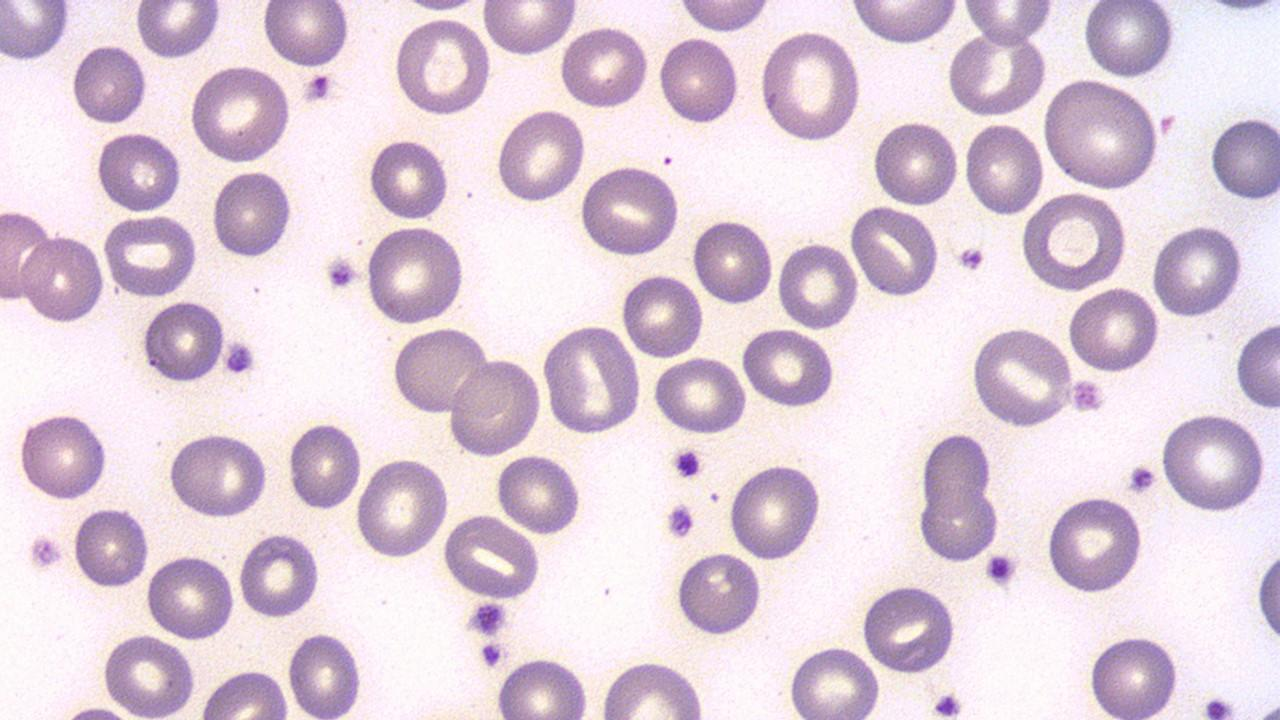Platelets: (323, 253, 362, 294), (467, 600, 509, 638), (983, 548, 1020, 590), (221, 337, 257, 379), (1200, 0, 1278, 17), (664, 501, 694, 540), (928, 688, 966, 718), (1124, 462, 1156, 496), (1199, 692, 1239, 719), (671, 448, 704, 480), (303, 73, 334, 104), (477, 638, 506, 670)
RBC: (1042, 75, 1162, 192), (758, 27, 862, 143), (1158, 410, 1270, 516), (541, 322, 643, 435), (967, 325, 1077, 429), (1018, 190, 1130, 292), (364, 223, 467, 327), (1043, 492, 1147, 594), (188, 64, 294, 164), (392, 14, 493, 118), (352, 455, 452, 560), (726, 458, 825, 562), (576, 164, 682, 258), (165, 429, 273, 521), (446, 356, 543, 456), (1147, 223, 1247, 320), (859, 581, 959, 675), (944, 29, 1048, 119), (440, 512, 544, 602), (494, 106, 588, 205), (387, 326, 489, 417), (16, 409, 112, 504), (848, 203, 944, 298), (1065, 284, 1163, 376), (1085, 629, 1183, 718), (100, 212, 201, 298), (17, 231, 108, 326), (961, 119, 1046, 220), (144, 550, 237, 642), (650, 354, 750, 438), (99, 632, 198, 716), (558, 22, 652, 110), (674, 547, 764, 638), (869, 117, 960, 207), (209, 166, 294, 262), (738, 327, 837, 409), (656, 32, 742, 126), (619, 269, 705, 362), (690, 214, 774, 309), (494, 450, 584, 538), (236, 528, 322, 620), (776, 238, 860, 332), (95, 128, 184, 215), (141, 296, 227, 386), (1079, 0, 1175, 80), (286, 416, 364, 514), (786, 641, 883, 719), (286, 626, 366, 719), (367, 135, 451, 222), (915, 485, 1003, 566), (71, 503, 152, 591), (918, 430, 994, 520), (1207, 109, 1279, 204), (596, 657, 707, 717), (70, 41, 148, 126), (492, 654, 593, 718), (260, 0, 348, 70), (479, 1, 579, 61), (133, 1, 223, 62), (0, 208, 54, 304), (197, 666, 291, 718), (850, 1, 960, 45), (0, 1, 72, 64), (1231, 317, 1279, 411), (961, 1, 1053, 46), (676, 0, 774, 34), (1255, 534, 1279, 652), (400, 0, 480, 14)
